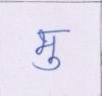u_matra: (32, 57, 63, 71)
